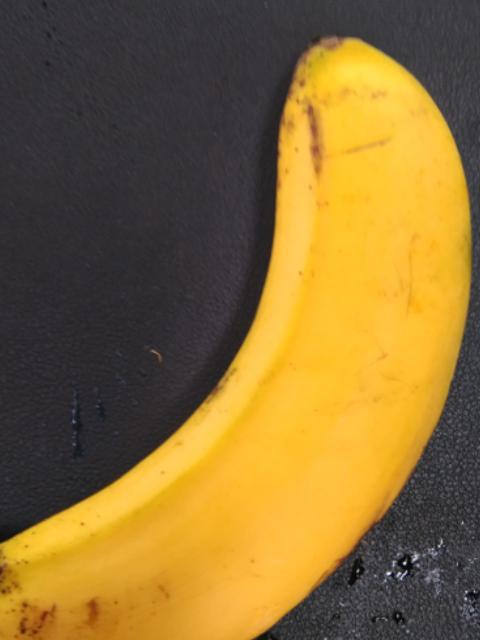freshripe: (0, 32, 479, 639)
